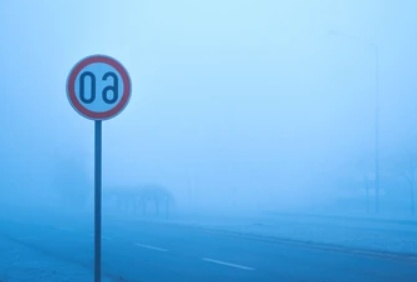Speed limit: (61, 54, 134, 117)
